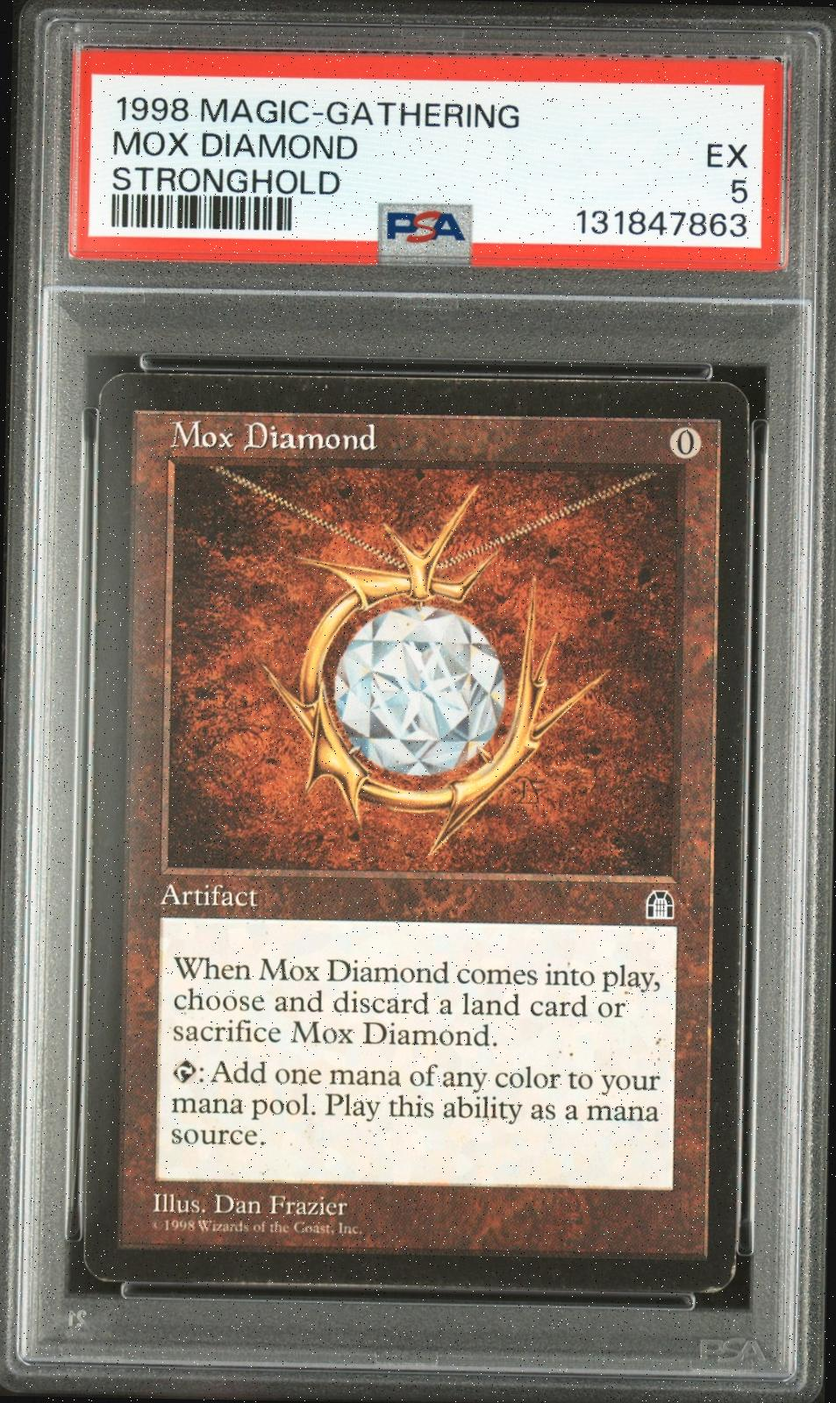card-2UtV: (82, 372, 749, 1293)
